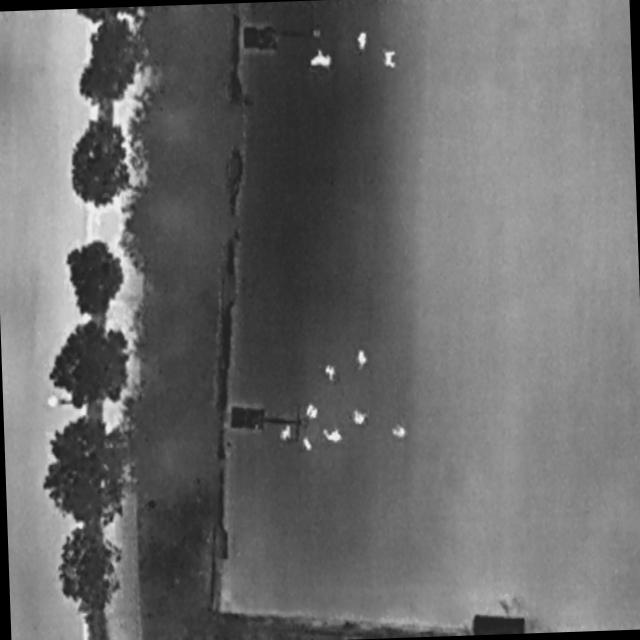person: (321, 422, 347, 448), (276, 421, 298, 448), (309, 48, 334, 70), (299, 434, 316, 456), (355, 30, 370, 54), (391, 423, 408, 440), (384, 51, 399, 70), (352, 409, 368, 426), (355, 350, 369, 369), (305, 404, 320, 420), (324, 366, 337, 381)
